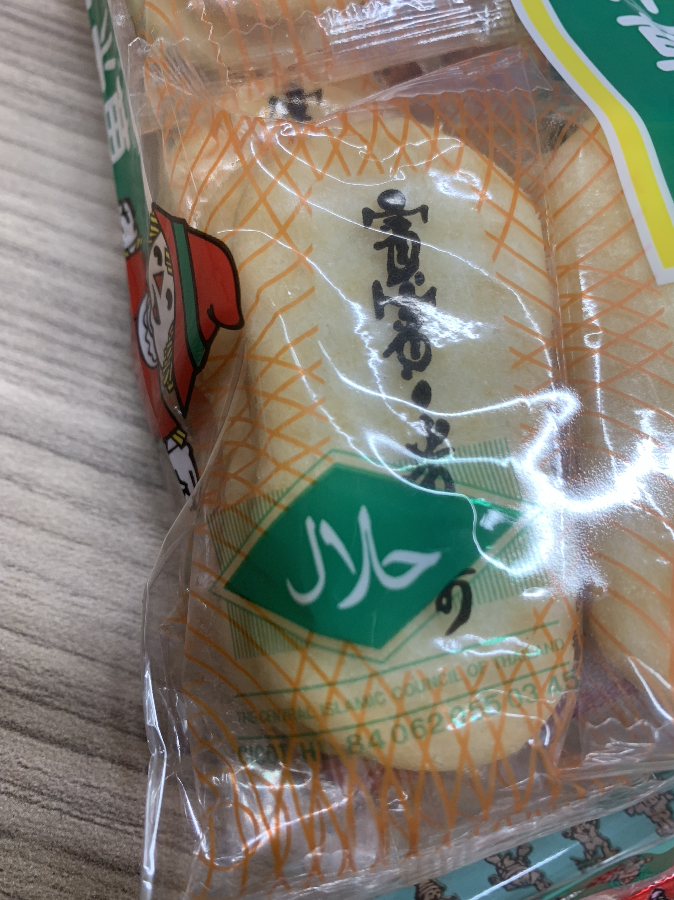halal: (287, 503, 433, 610)
